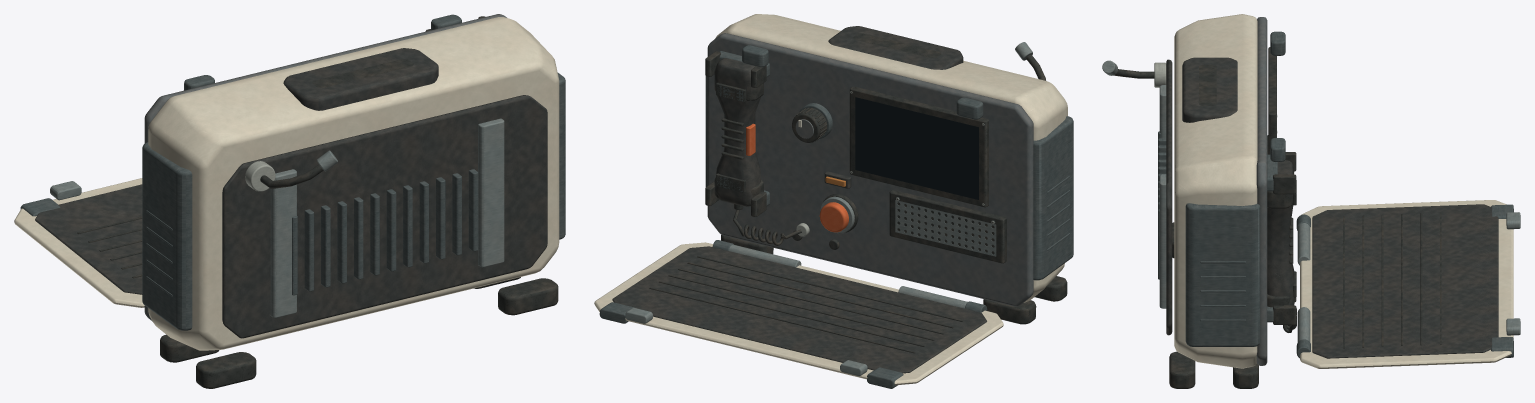
The model's file is base_radio.glb.
3 views of the same model, side by side, from view 1: azimuth 30°, elevation 25°; view 2: azimuth 150°, elevation 25°; view 3: azimuth 270°, elevation 25° (orthographic). The views are drawn at different scales.
Parts seen in each view (by area): view 1: BaseRadioSet_hardware_graphite, Cast_main_housing_rover_white, BaseRadioSet_hardware_dark_alloy, BaseRadioSet_hardware_alloy, Cover_inner_protection_graphite, BaseRadioSet_hardware_black_rubber, Fold_down_cover_shell_rover_white, Crush_resistant_bezel_slate_panel, BaseRadioSet_hardware_satin_steel, FrontLid_hardware_black_rubber, Antenna_pigtail_black_rubber; view 2: Crush_resistant_bezel_slate_panel, Cover_inner_protection_graphite, BaseRadioSet_hardware_black_rubber, Cast_main_housing_rover_white, Screen, BaseRadioSet_hardware_dark_alloy, Fold_down_cover_shell_rover_white, Handset, FrontLid_hardware_black_rubber, BaseRadioSet_hardware_alloy, BaseRadioSet_hardware_graphite, FrontLid_hardware_alloy (+6 smaller); view 3: Cover_inner_protection_graphite, Cast_main_housing_rover_white, BaseRadioSet_hardware_dark_alloy, Fold_down_cover_shell_rover_white, BaseRadioSet_hardware_graphite, BaseRadioSet_hardware_black_rubber, Crush_resistant_bezel_slate_panel, Handset, FrontLid_hardware_black_rubber, FrontLid_hardware_alloy, BaseRadioSet_hardware_alloy, Handset_hardware_black_rubber.
Part boxes in pixels (x1,y1,x2,y2): BaseRadioSet_hardware_graphite: [222, 48, 547, 338]; Cast_main_housing_rover_white: [148, 17, 559, 350]; BaseRadioSet_hardware_dark_alloy: [142, 14, 565, 330]; BaseRadioSet_hardware_alloy: [270, 118, 504, 317]; Cover_inner_protection_graphite: [35, 184, 142, 294]; BaseRadioSet_hardware_black_rubber: [160, 16, 558, 388]; Fold_down_cover_shell_rover_white: [14, 178, 144, 307]; Crush_resistant_bezel_slate_panel: [144, 14, 506, 321]; BaseRadioSet_hardware_satin_steel: [245, 161, 275, 191]; FrontLid_hardware_black_rubber: [77, 217, 142, 278]; Antenna_pigtail_black_rubber: [260, 164, 323, 188]; Crush_resistant_bezel_slate_panel: [707, 33, 1033, 306]; Cover_inner_protection_graphite: [612, 246, 986, 373]; BaseRadioSet_hardware_black_rubber: [705, 33, 1067, 324]; Cast_main_housing_rover_white: [715, 14, 1067, 302]; Screen: [855, 97, 978, 199]; BaseRadioSet_hardware_dark_alloy: [705, 45, 1073, 312]; Fold_down_cover_shell_rover_white: [594, 242, 1003, 385]; Handset: [714, 58, 760, 206]; FrontLid_hardware_black_rubber: [649, 256, 962, 353]; BaseRadioSet_hardware_alloy: [820, 196, 996, 256]; BaseRadioSet_hardware_graphite: [824, 26, 993, 223]; FrontLid_hardware_alloy: [625, 244, 967, 376]; Cover_inner_protection_graphite: [1312, 204, 1498, 358]; Cast_main_housing_rover_white: [1174, 14, 1257, 368]; BaseRadioSet_hardware_dark_alloy: [1158, 31, 1310, 358]; Fold_down_cover_shell_rover_white: [1300, 200, 1513, 368]; BaseRadioSet_hardware_graphite: [1166, 57, 1237, 335]; BaseRadioSet_hardware_black_rubber: [1169, 47, 1296, 388]; Crush_resistant_bezel_slate_panel: [1256, 17, 1267, 365]; Handset: [1267, 160, 1294, 305]; FrontLid_hardware_black_rubber: [1343, 212, 1441, 348]; FrontLid_hardware_alloy: [1297, 212, 1520, 342]; BaseRadioSet_hardware_alloy: [1159, 85, 1166, 308]; Handset_hardware_black_rubber: [1267, 180, 1296, 307].
Bounding box in the file's own units: 0.594 × 0.377 × 0.6259.
Materials: 11 (9 with a texture image).
